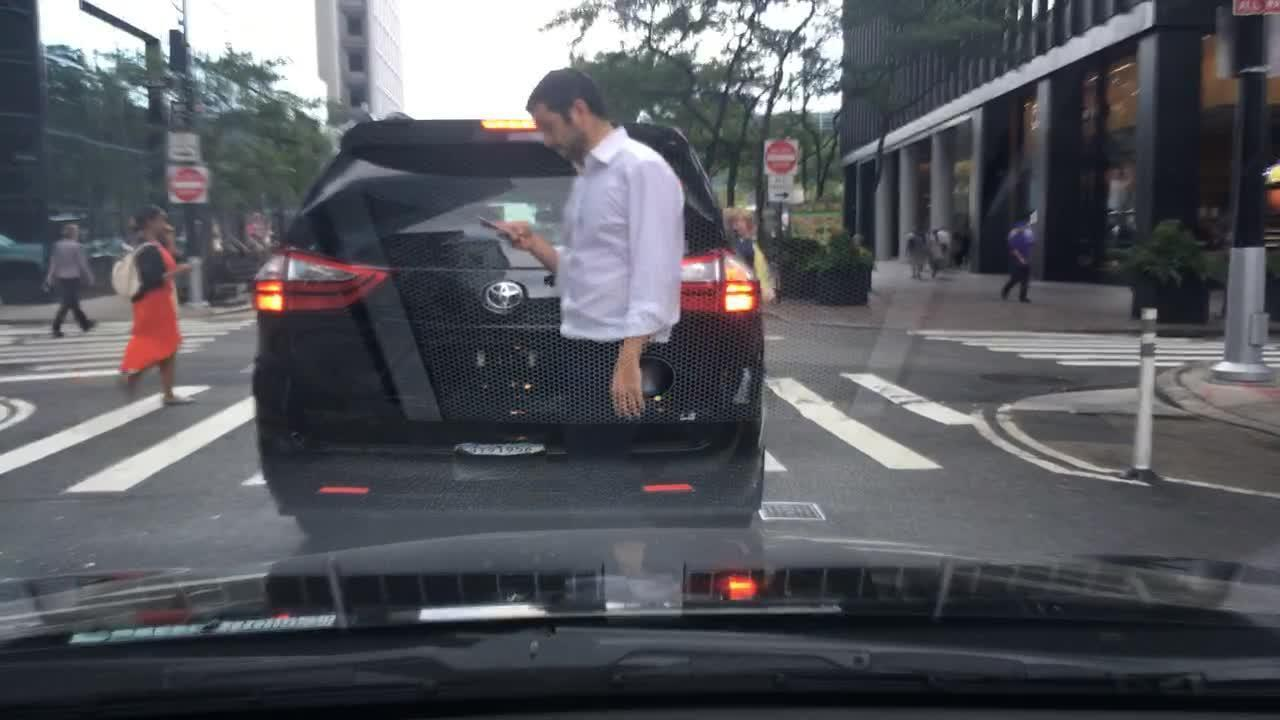Toyota: (463, 264, 530, 320)
